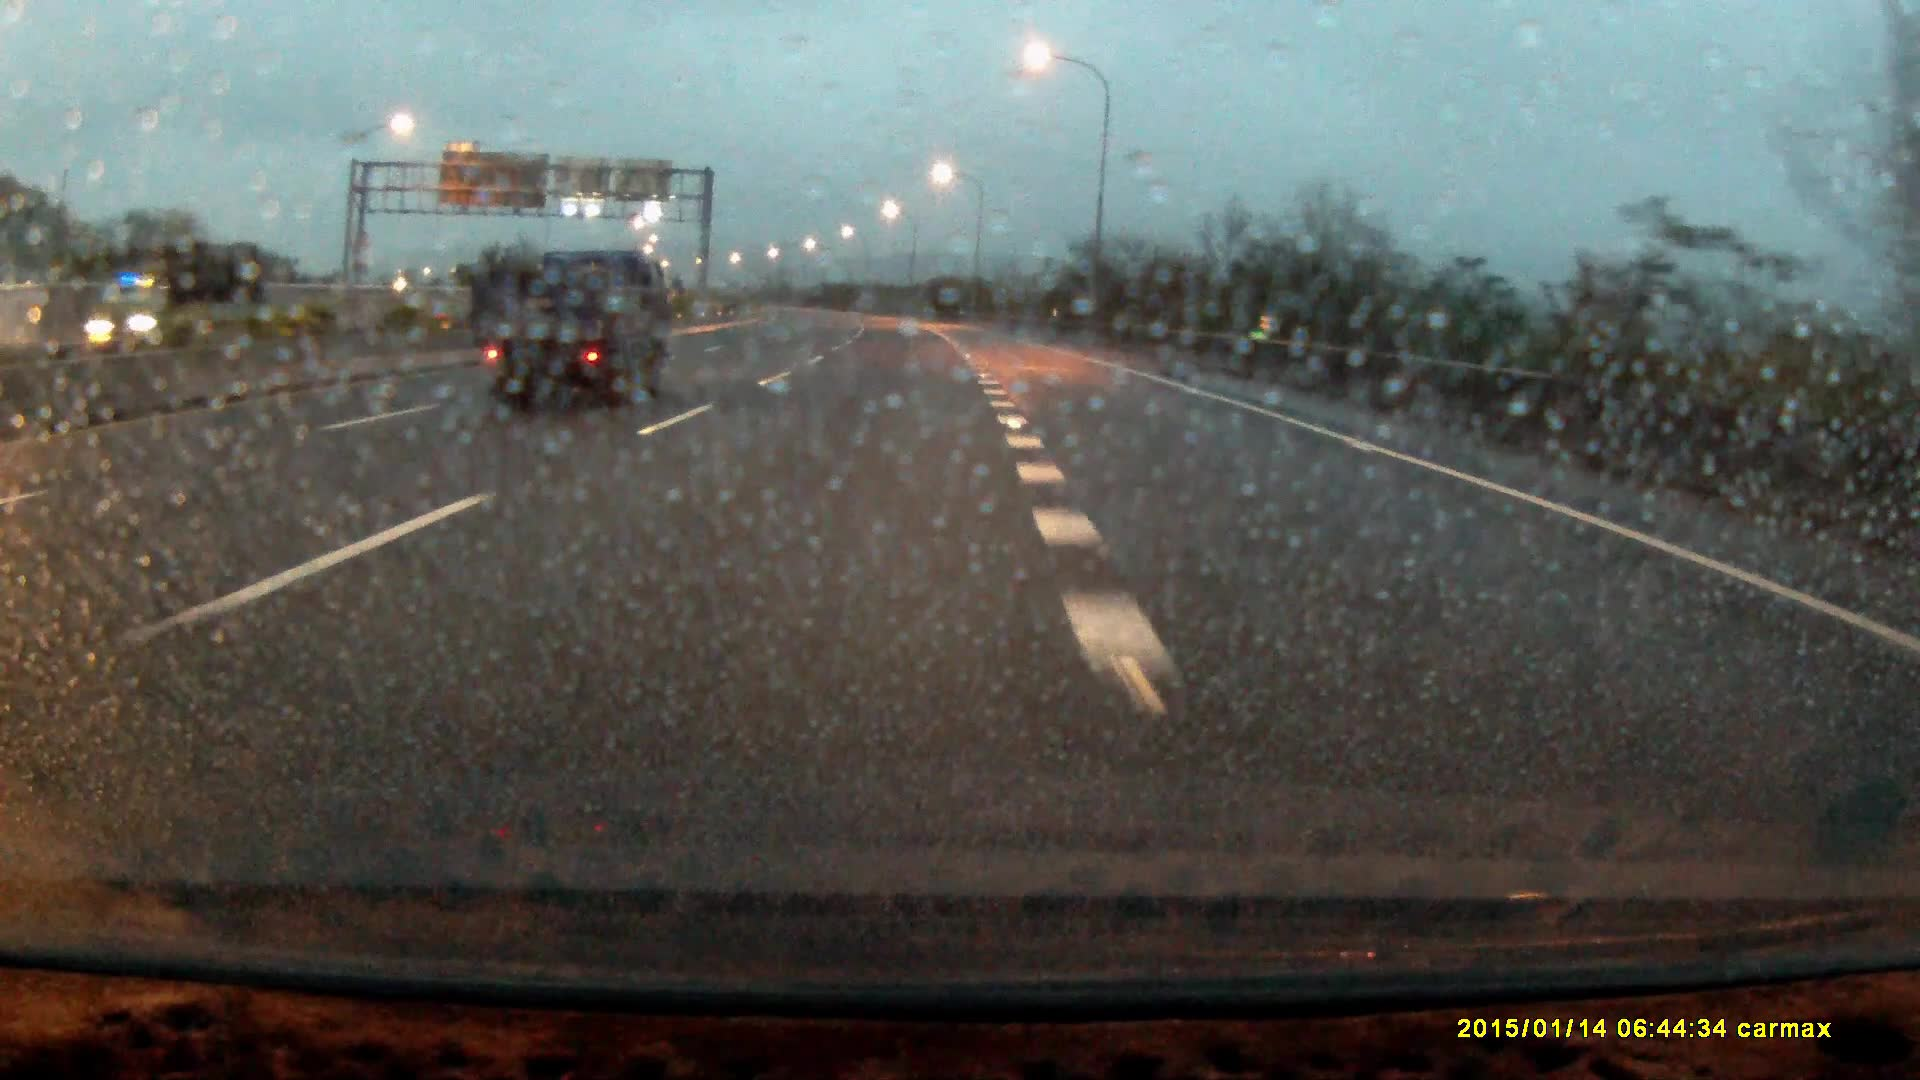vehicle: (469, 249, 673, 411), (92, 239, 265, 343)
